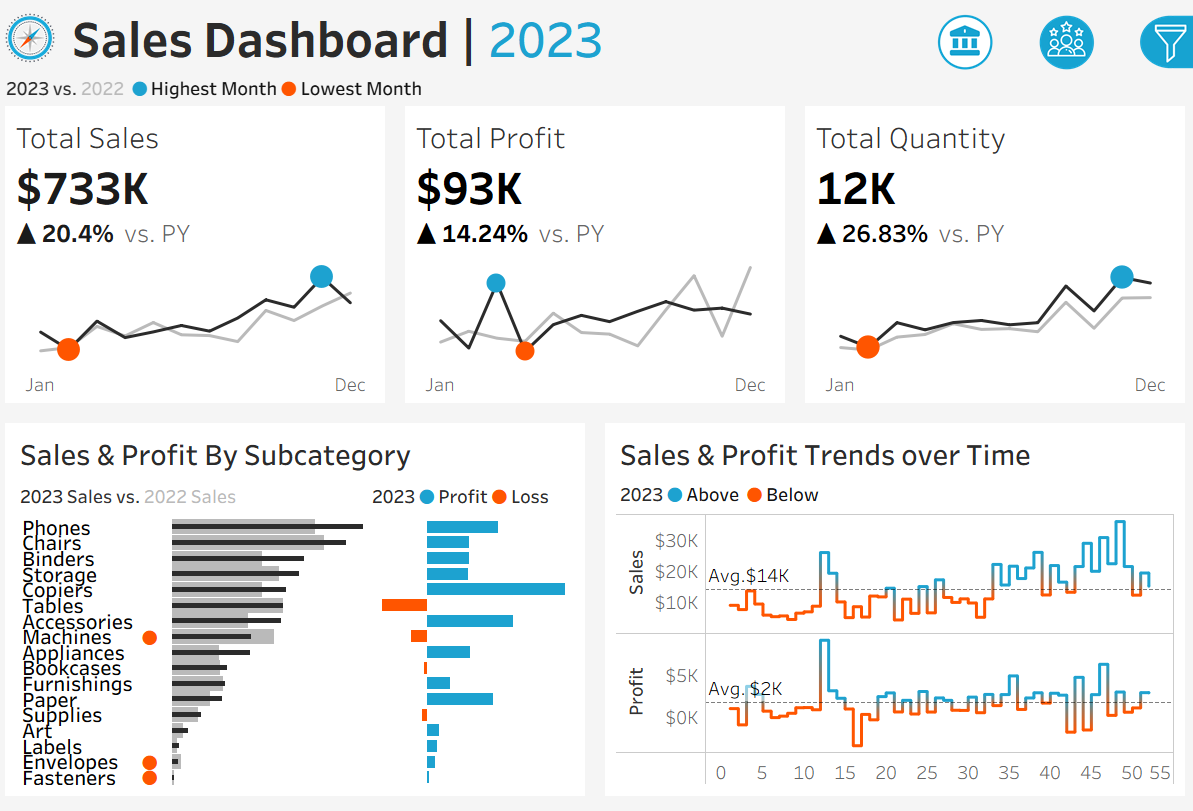

The dashboard page shown, as its layout file describes it:
{"tool":"tableau","page":{"name":"Sales Dashboard","canvas":[1200,800],"ordinal":1},"visuals":[{"type":"image","param":"Image/Icon - Logo.png","box":[0,0,69,64]},{"type":"text","box":[69,0,699,64]},{"type":"dashboard-object","box":[920,4,101,64]},{"type":"dashboard-object","box":[1021,4,100,64]},{"type":"blank","box":[950,10,239,88]},{"type":"worksheet","title":"Legend KPI","mark":"Automatic","box":[0,64,1200,36]},{"type":"text","box":[950,98,239,52]},{"type":"worksheet","title":"KPI Sales","mark":"Line","rows":["Calculation_1271703952279511044"],"cols":["Order Date"],"box":[0,100,400,307]},{"type":"worksheet","title":"KPI Profit","mark":"Automatic","rows":["Min / Max Sales (copy)_653866378728181766"],"cols":["Order Date"],"box":[400,100,400,307]},{"type":"worksheet","title":"KPI Quantity","mark":"Line","rows":["Min / Max Sales (copy)_653866378740568078"],"cols":["Order Date"],"box":[800,100,400,307]},{"type":"parameter","param":"[Parameters].[Parameter 1]","box":[950,150,239,56]},{"type":"blank","box":[950,206,239,60]},{"type":"text","box":[950,266,239,33]},{"type":"filter","title":"KPI Sales","param":"[federated.0q5ydkq1mpu3g018v3r5l1sqj1np].[none:Category:nk]","box":[950,299,239,61]},{"type":"filter","title":"KPI Sales","param":"[federated.0q5ydkq1mpu3g018v3r5l1sqj1np].[none:Sub-Category:nk]","box":[950,360,239,61]},{"type":"blank","box":[950,421,239,52]},{"type":"text","box":[17,424,566,47]},{"type":"text","box":[617,424,566,47]},{"type":"worksheet","title":"Legend Subcategory","mark":"Automatic","box":[17,471,399,38]},{"type":"text","box":[416,471,167,38]},{"type":"text","box":[617,471,566,33]},{"type":"text","box":[950,473,239,43]},{"type":"worksheet","title":"Weekly Trends","mark":"Automatic","rows":["Calculation_1271703952272543744","CY Sales (copy)_653866378725732354"],"cols":["Order Date"],"box":[617,504,566,279]},{"type":"worksheet","title":"Subcategory comparison ","mark":"Bar","rows":["Sub-Category","Calculation_653866378750439441"],"cols":["CY Sales (copy)_1271703952272920577","Calculation_1271703952272543744","CY Sales (copy)_653866378725732354"],"box":[17,509,566,273.9]},{"type":"filter","title":"KPI Sales","param":"[federated.0q5ydkq1mpu3g018v3r5l1sqj1np].[none:Region:nk]","box":[950,516,239,61]},{"type":"filter","title":"KPI Sales","param":"[federated.0q5ydkq1mpu3g018v3r5l1sqj1np].[none:State:nk]","box":[950,577,239,61]},{"type":"filter","title":"KPI Sales","param":"[federated.0q5ydkq1mpu3g018v3r5l1sqj1np].[none:City:nk]","box":[950,638,239,61]}]}

Visuals, with their boxes in screenshot pixels (x1, y1, x2, y2), scaled from the page's 1200x800 canvas onto the 1193x811 screenshot:
image: region(0, 0, 69, 65)
text: region(69, 0, 764, 65)
dashboard-object: region(915, 4, 1015, 69)
dashboard-object: region(1015, 4, 1114, 69)
blank: region(944, 10, 1182, 99)
"Legend KPI" worksheet: region(0, 65, 1192, 101)
text: region(944, 99, 1182, 152)
"KPI Sales" worksheet (Line marks): region(0, 101, 398, 413)
"KPI Profit" worksheet: region(398, 101, 795, 413)
"KPI Quantity" worksheet (Line marks): region(795, 101, 1192, 413)
parameter: region(944, 152, 1182, 209)
blank: region(944, 209, 1182, 270)
text: region(944, 270, 1182, 303)
"KPI Sales" filter: region(944, 303, 1182, 365)
"KPI Sales" filter: region(944, 365, 1182, 427)
blank: region(944, 427, 1182, 480)
text: region(17, 430, 580, 477)
text: region(613, 430, 1176, 477)
"Legend Subcategory" worksheet: region(17, 477, 414, 516)
text: region(414, 477, 580, 516)
text: region(613, 477, 1176, 511)
text: region(944, 480, 1182, 523)
"Weekly Trends" worksheet: region(613, 511, 1176, 794)
"Subcategory comparison " worksheet (Bar marks): region(17, 516, 580, 794)
"KPI Sales" filter: region(944, 523, 1182, 585)
"KPI Sales" filter: region(944, 585, 1182, 647)
"KPI Sales" filter: region(944, 647, 1182, 709)
